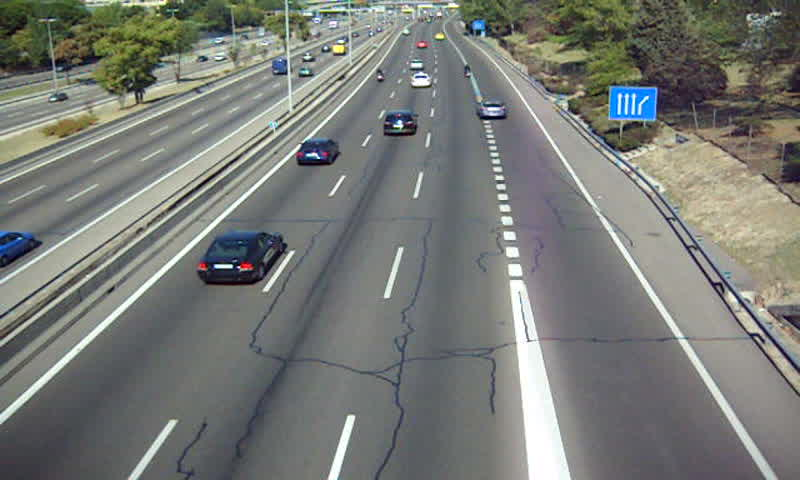car: (198, 231, 284, 285), (294, 138, 338, 165), (382, 108, 418, 138), (476, 101, 508, 121), (410, 72, 431, 89), (410, 58, 422, 69)
motorcycle: (463, 64, 475, 80), (376, 66, 385, 84)
